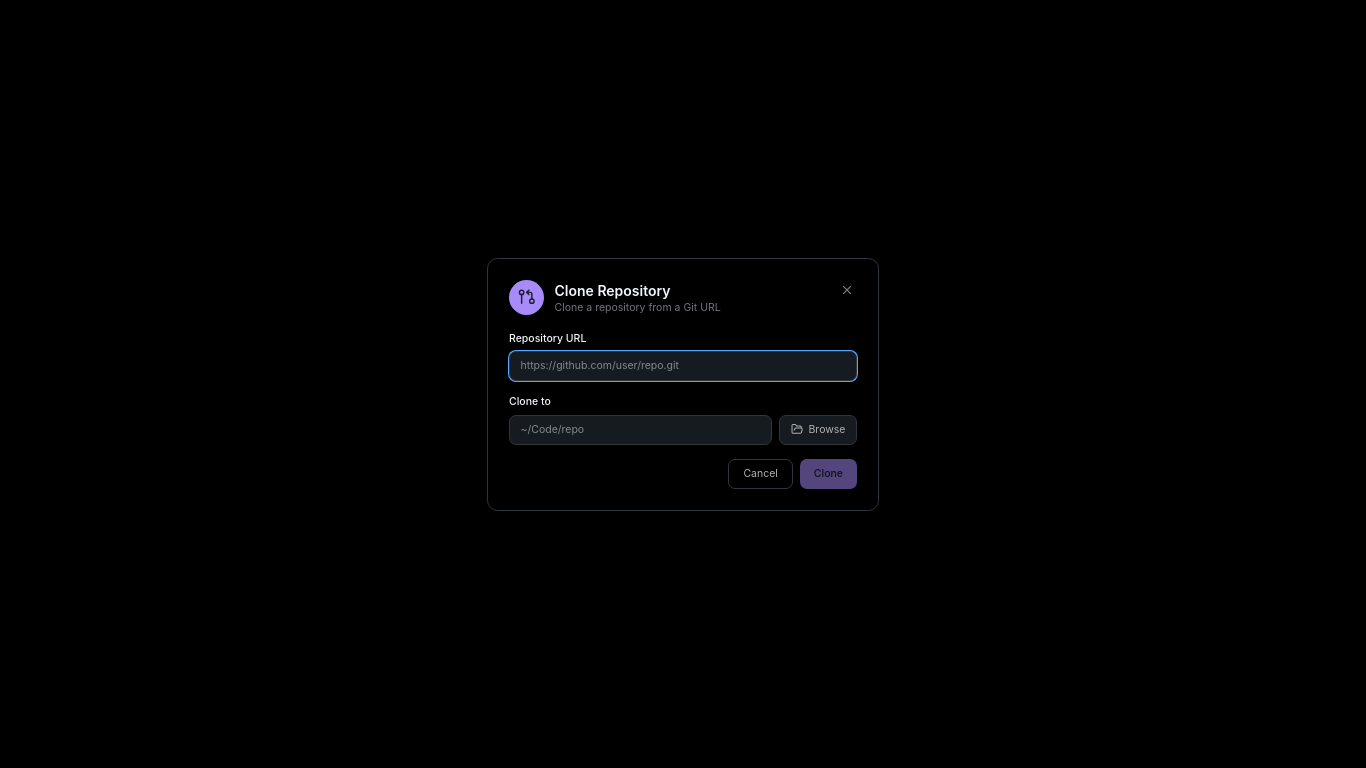
Scenario: CloneRepoDialog › derives repo name from URL in the placeholder
Type "https://github.com/user/my-project.git" into the field with placeholder "https://github.com/user/repo.git" at (683, 366), box x1=509 y1=351 x2=857 y2=381
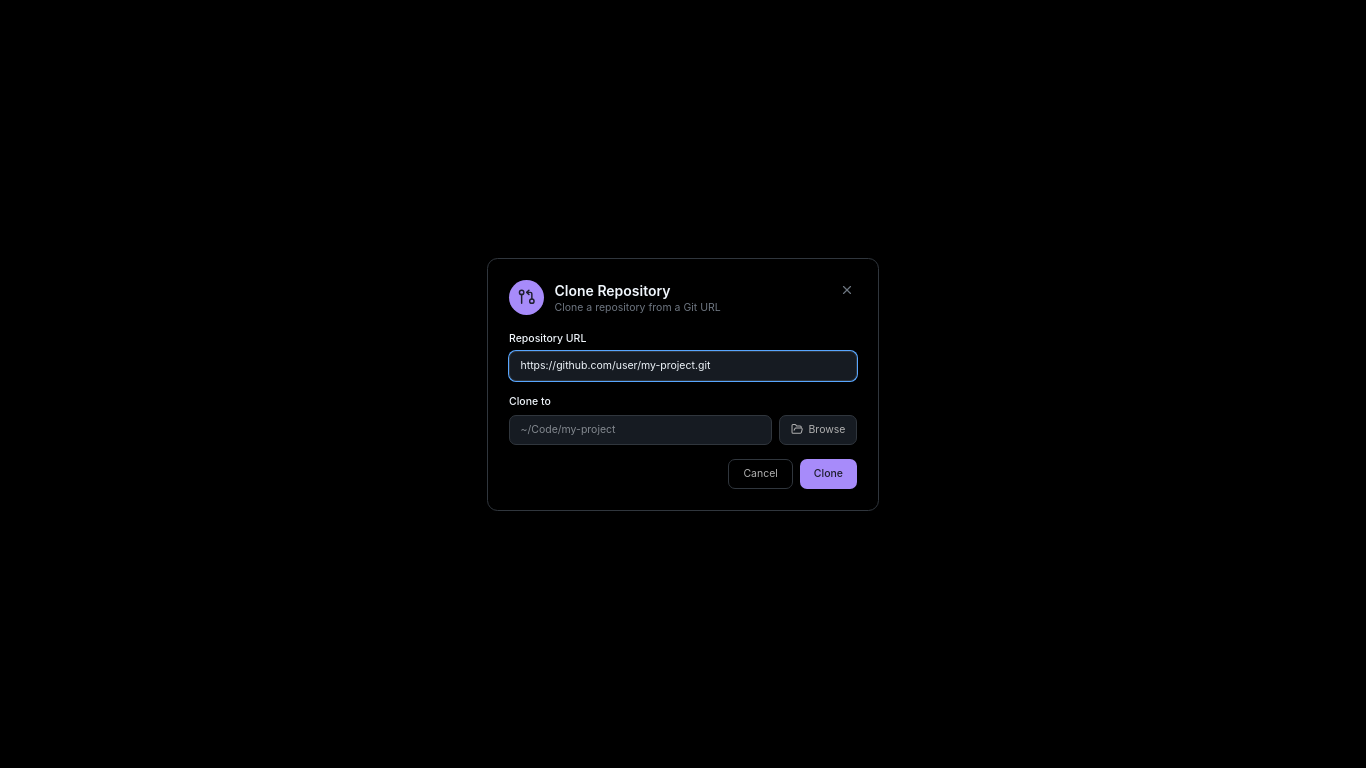
Check: the field with placeholder "~/Code/my-project" is shown, box x1=509 y1=414 x2=772 y2=444
